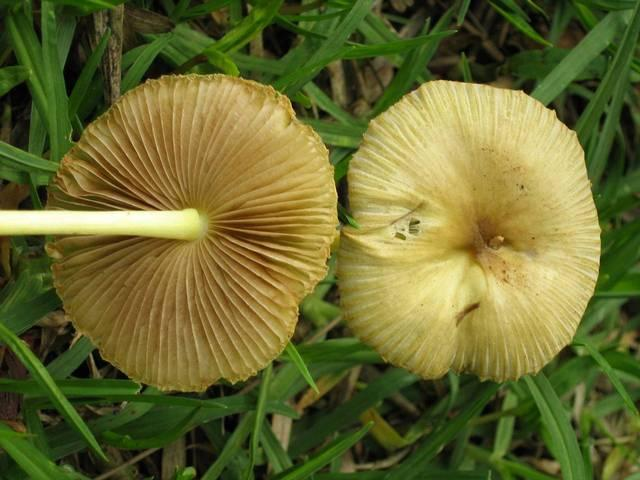Edible Mushroom: (43, 71, 340, 393), (335, 78, 602, 383)
